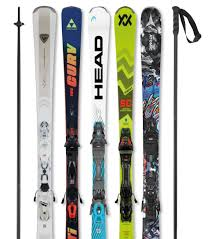skis: (32, 5, 59, 239), (86, 5, 112, 239), (113, 6, 139, 239), (137, 6, 163, 239), (62, 6, 83, 239)
